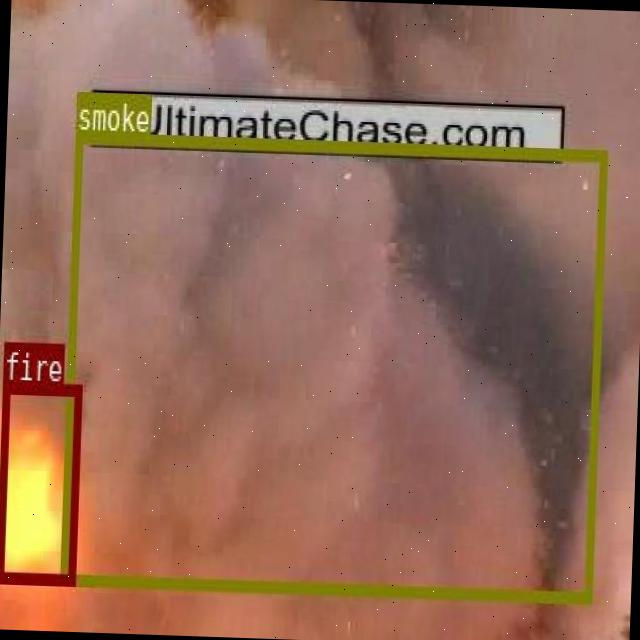fire: (0, 378, 79, 582)
smoke: (59, 130, 606, 602)
